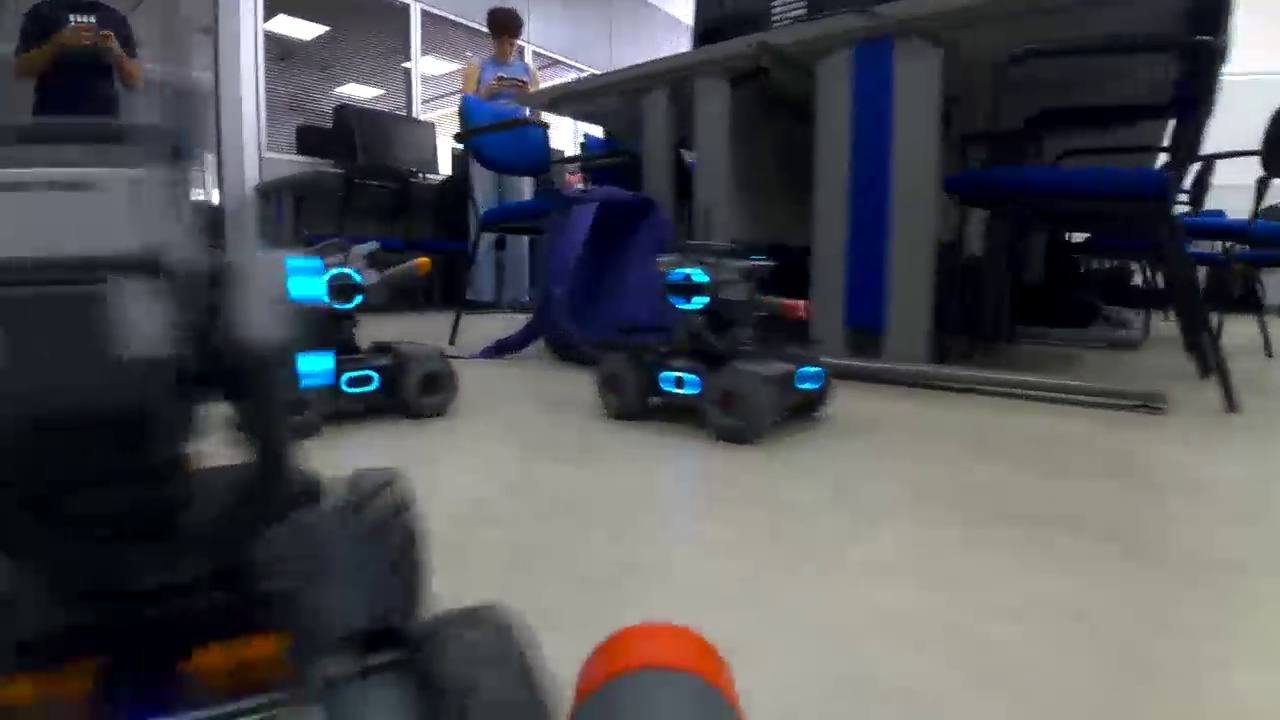robot: (1, 112, 598, 720), (593, 232, 848, 454), (245, 233, 470, 441)
